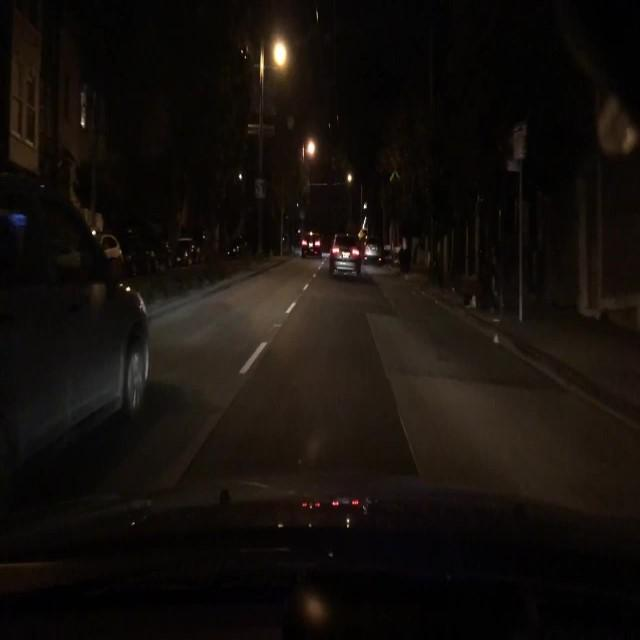normal: (289, 190, 386, 289)
